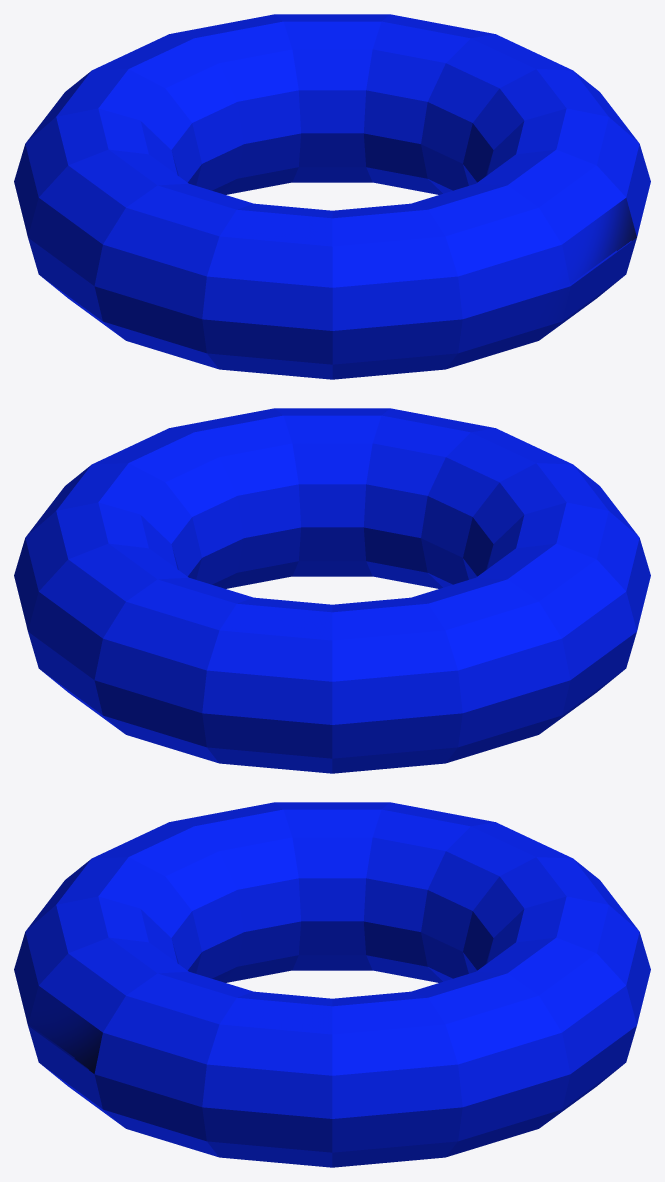
File: flot1.obj
The picture shows the model from 3 angles, top to bottom: view 1: azimuth 30°, elevation 25°; view 2: azimuth 150°, elevation 25°; view 3: azimuth 270°, elevation 25°; orthographic projection.
Parts seen in each view (by area): view 1: Torus.004; view 2: Torus.004; view 3: Torus.004.
Part boxes in pixels (box(x1,y1,x2,y2)): Torus.004: box(14, 14, 650, 379); Torus.004: box(14, 408, 650, 773); Torus.004: box(14, 802, 650, 1167).
Size of the model in its own units: 3.66 by 0.98 by 3.68.
Materials: 1 (1 with a texture image).
